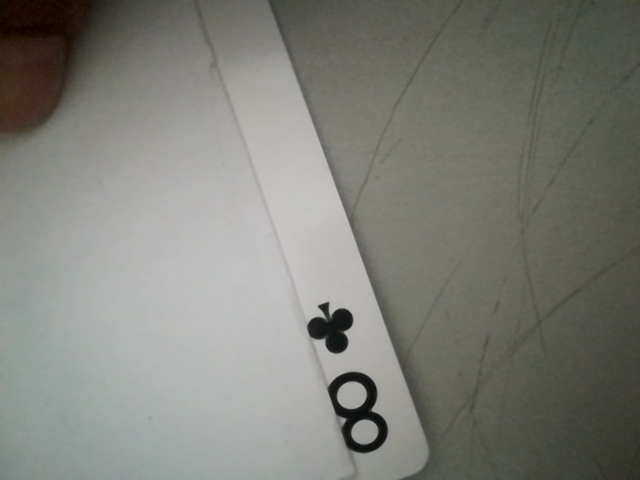mh 8: (298, 294, 411, 466)
